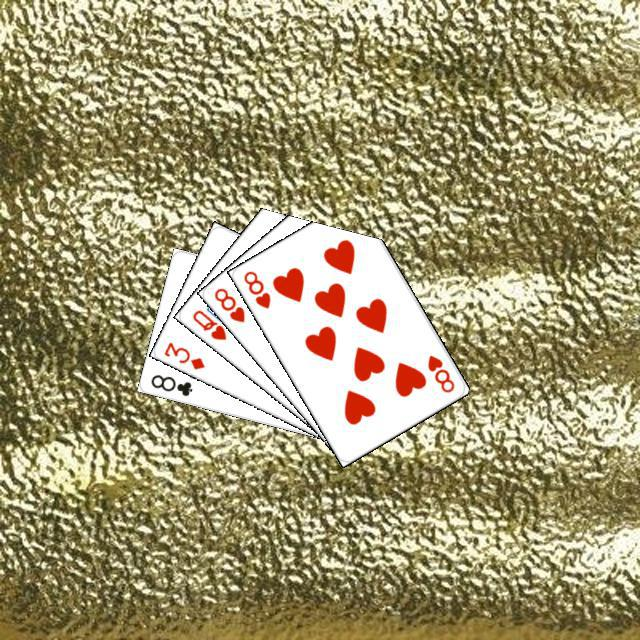3d: (159, 337, 207, 371)
8c: (146, 369, 194, 398)
8h: (209, 283, 247, 324), (422, 350, 456, 394), (239, 266, 272, 310)
Qh: (187, 305, 228, 342)
